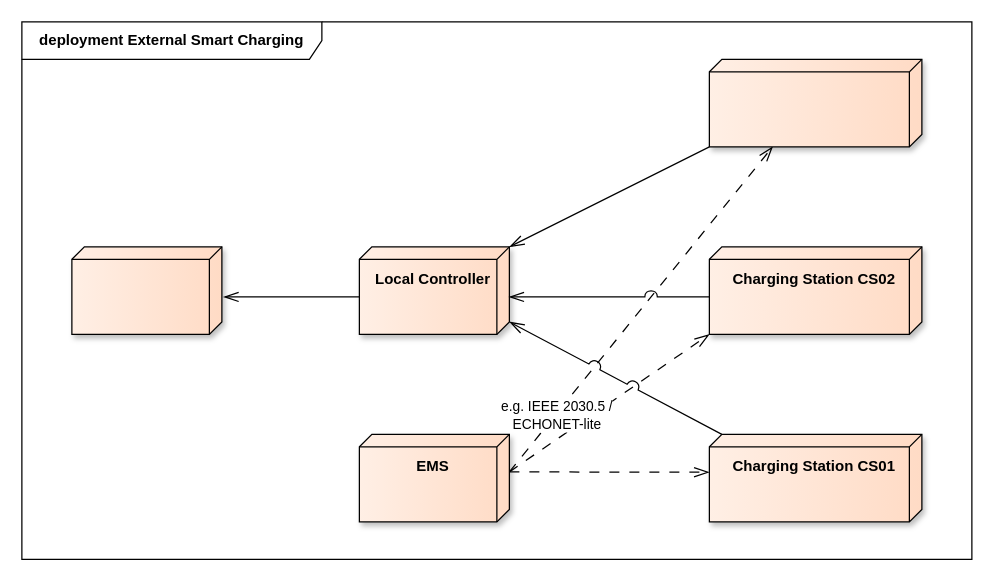
Image size: 994x581. Some labels were removed from this diagram. The centre of each missing label's shape, as x and y in pixels:
Charging Station CS03: [816,104]
CSMS: [147,291]
